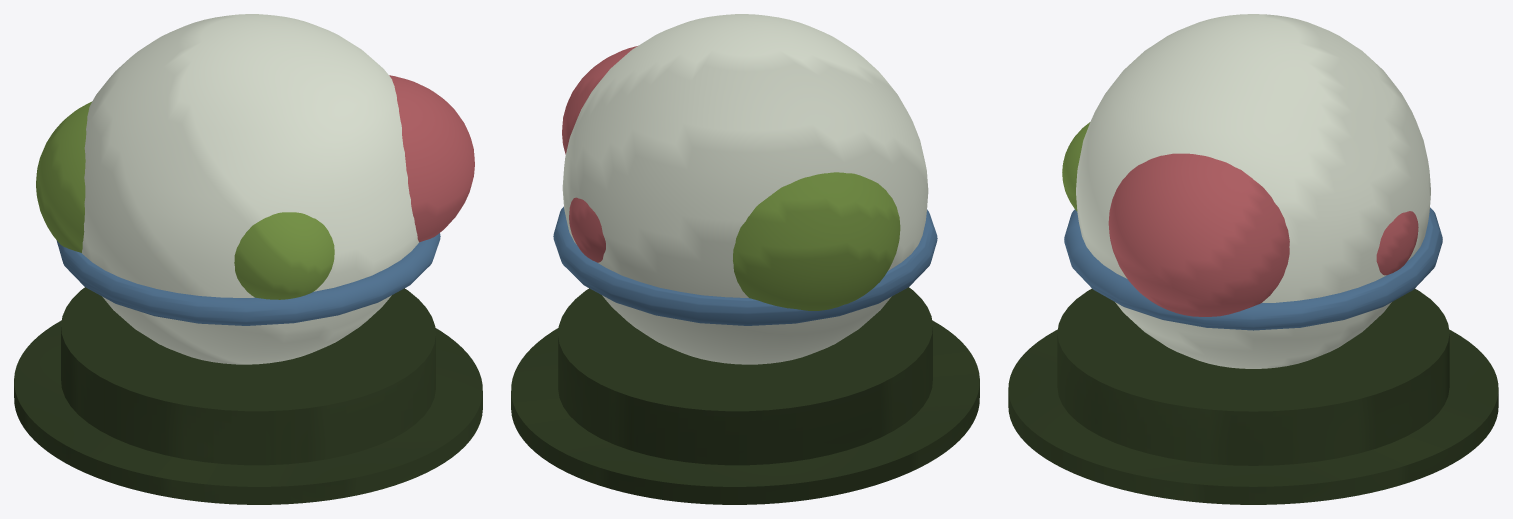
The model's file is 0669_史前人类图鉴_马格达林鱼叉.glb.
3 views of the same model, side by side, from view 1: azimuth 30°, elevation 25°; view 2: azimuth 150°, elevation 25°; view 3: azimuth 270°, elevation 25° (orthographic).
Visible parts, largest first — view 1: card_0669; view 2: card_0669; view 3: card_0669.
Boxes of the visible parts, bbox=[...] form: card_0669: bbox=[14, 14, 482, 504]; card_0669: bbox=[511, 14, 979, 504]; card_0669: bbox=[1008, 14, 1498, 504].
Bounding box in the file's own units: 1.13 × 1 × 1.19.
